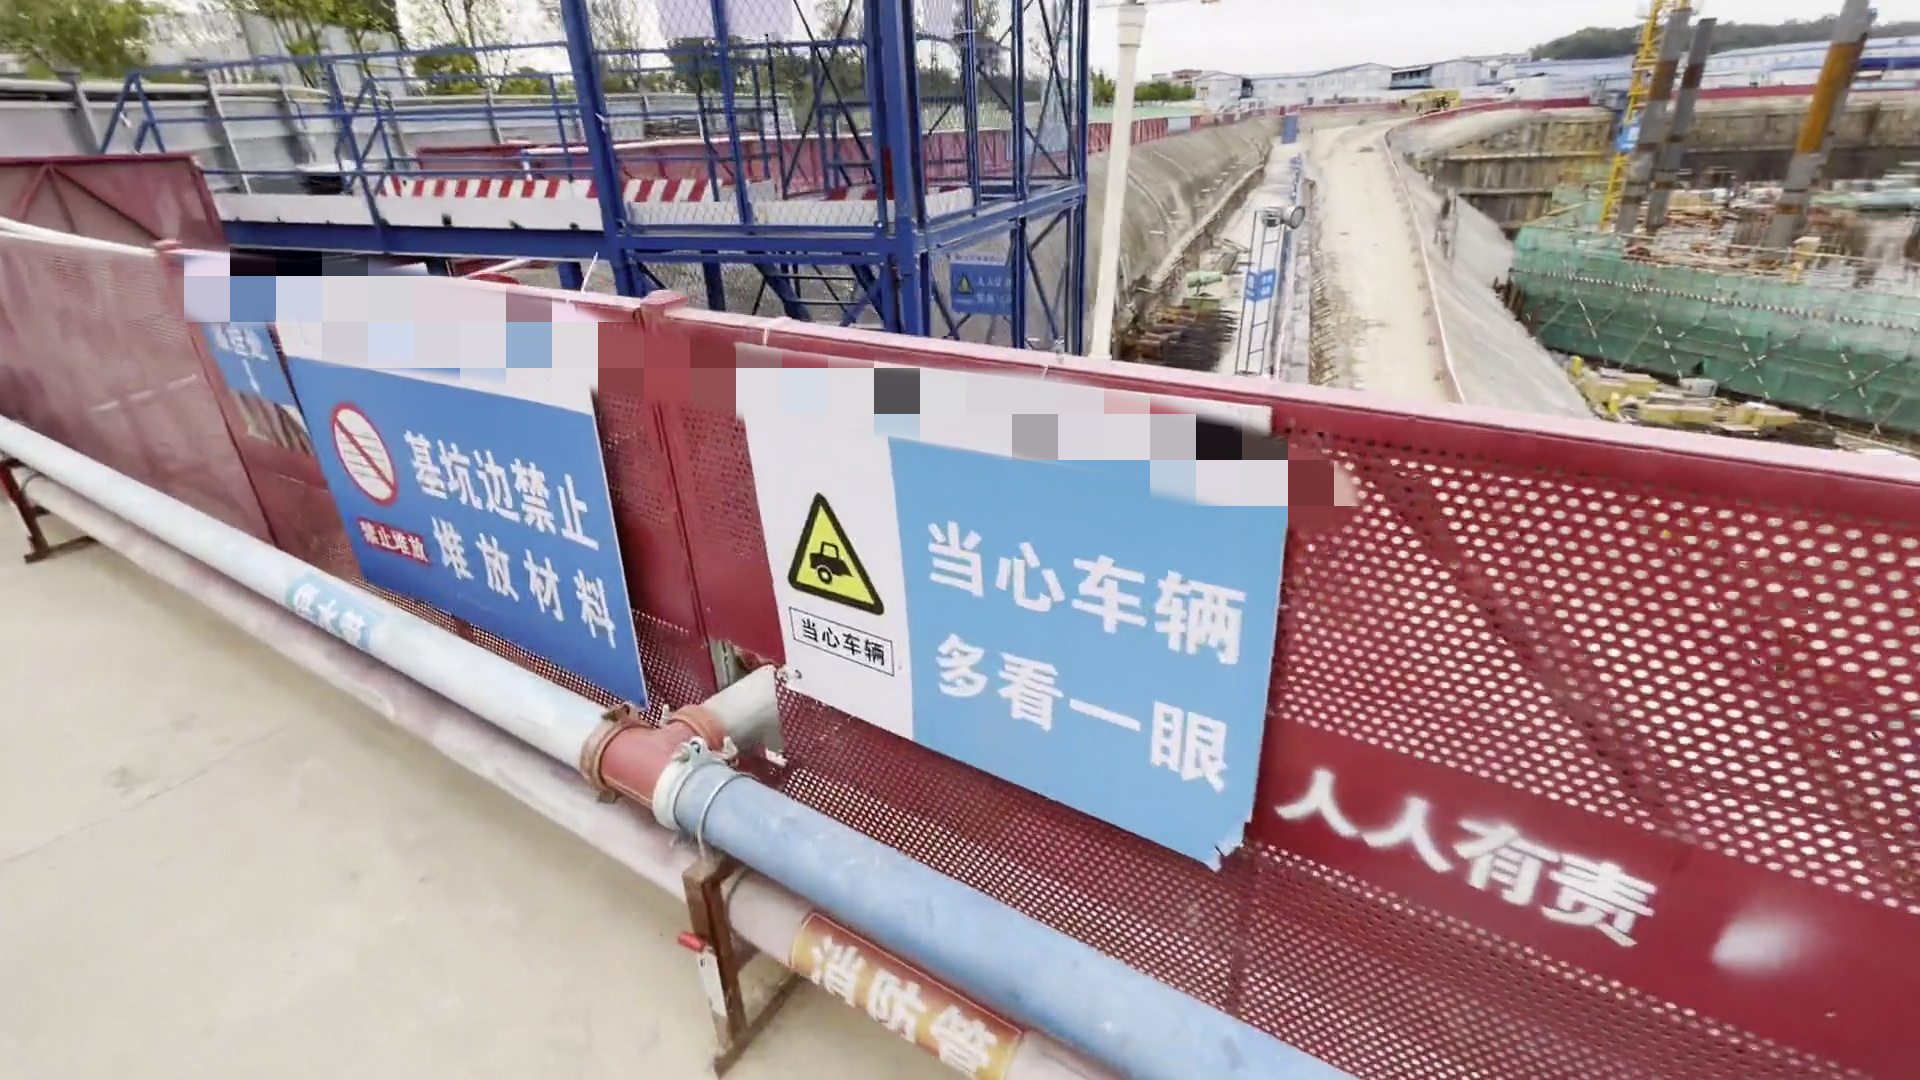fence: (1, 219, 1895, 1068), (583, 113, 1232, 181)
slogan: (204, 265, 1269, 856), (955, 237, 1009, 323), (1234, 258, 1287, 315)
